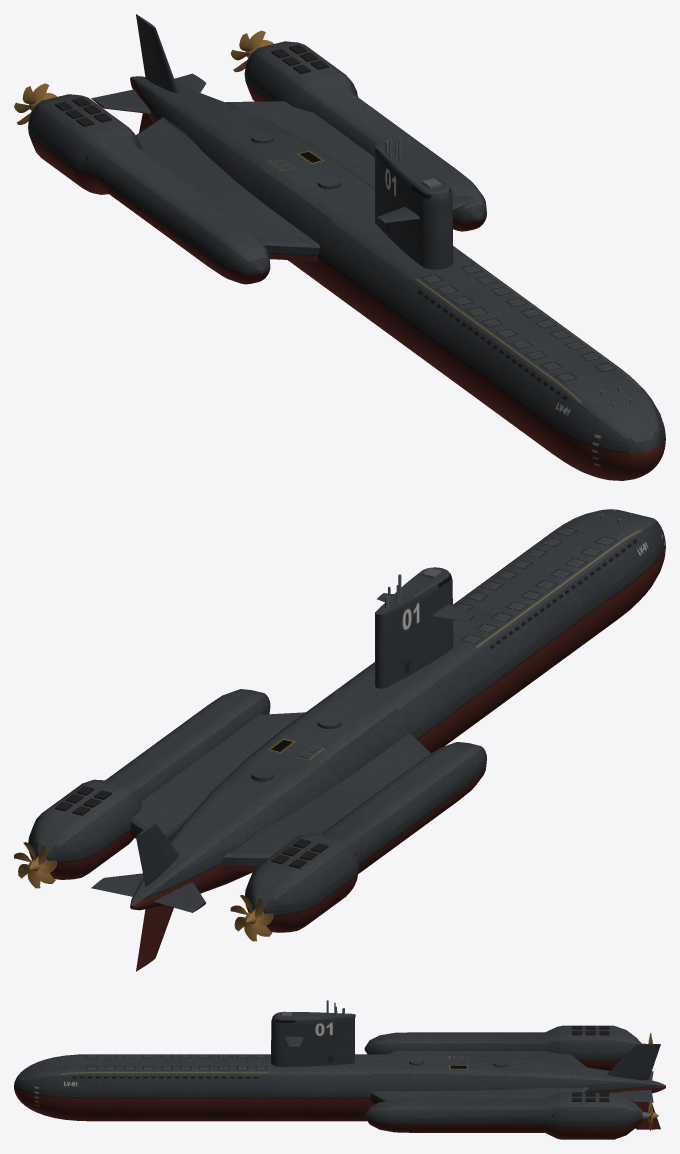
Rendered from ACO_Submarine.fbx.
3 renders of one model, top to bottom at view 1: azimuth 30°, elevation 25°; view 2: azimuth 150°, elevation 25°; view 3: azimuth 270°, elevation 25°, orthographic. The views are drawn at different scales.
Visible parts, largest first — view 1: SB_Hull, SB_Screw_L, SB_Screw_R; view 2: SB_Hull, SB_Screw_R, SB_Screw_L; view 3: SB_Hull.
Boxes of the visible parts, x1,y1,x2,y2 form: SB_Hull: [28, 14, 665, 480]; SB_Screw_L: [230, 30, 273, 72]; SB_Screw_R: [14, 83, 57, 124]; SB_Hull: [28, 509, 665, 971]; SB_Screw_R: [230, 895, 273, 941]; SB_Screw_L: [14, 842, 56, 888]; SB_Hull: [14, 1000, 665, 1139].
Bounding box in the file's own units: 83.6 × 57.5 × 264.
1 material, 1 textured.
